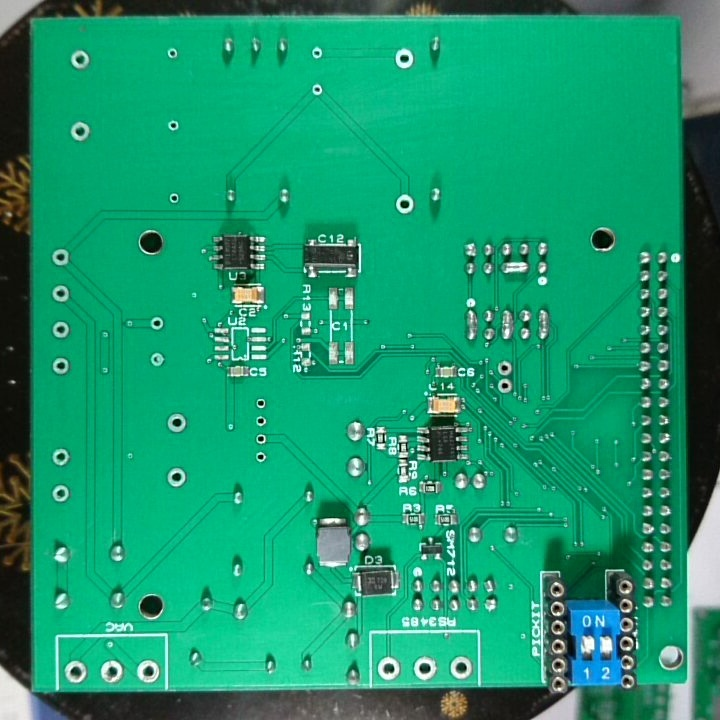F: (411, 652, 439, 683), (97, 657, 125, 686), (62, 658, 89, 685), (447, 655, 474, 681), (135, 658, 160, 685), (375, 654, 402, 679), (392, 192, 418, 217), (164, 411, 188, 438), (67, 118, 91, 144), (67, 48, 91, 73), (49, 318, 73, 343), (164, 464, 188, 489), (48, 355, 74, 378), (47, 245, 71, 269), (48, 446, 73, 469), (49, 283, 73, 306), (393, 46, 415, 71), (49, 482, 72, 505), (493, 378, 517, 398), (494, 358, 514, 378), (147, 314, 165, 335), (148, 351, 166, 370), (251, 448, 270, 466), (309, 79, 325, 100), (252, 430, 271, 447), (164, 43, 180, 63), (308, 44, 325, 62), (166, 189, 181, 208), (165, 118, 182, 134), (254, 395, 268, 413), (253, 415, 270, 429)
P: (497, 258, 531, 277), (464, 309, 480, 344), (499, 307, 514, 343), (536, 306, 550, 342)
